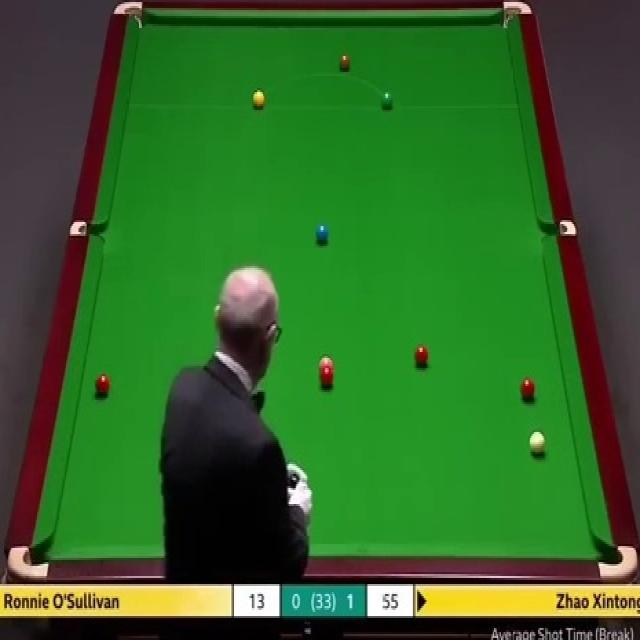blue-ball: (315, 222, 330, 244)
brown-ball: (338, 52, 351, 72)
green-ball: (380, 89, 393, 110)
pink-ball: (318, 356, 334, 370)
red-ball: (95, 372, 111, 398), (520, 376, 536, 401), (414, 346, 431, 368), (318, 367, 335, 388)
white-ball: (528, 432, 546, 457)
yellow-ball: (254, 91, 267, 111)
